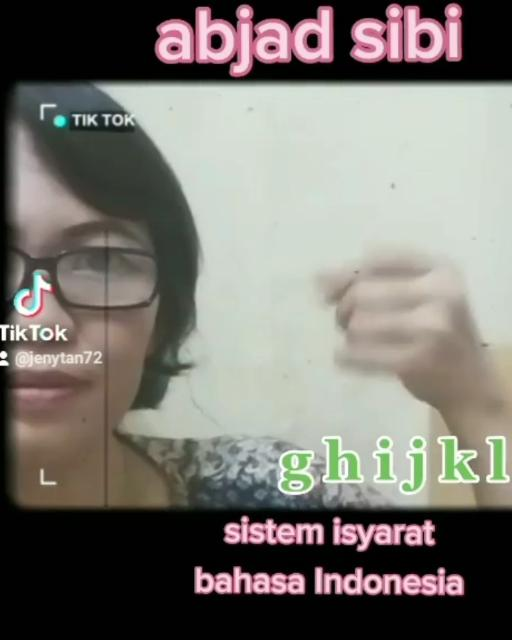J: (308, 241, 472, 391)
